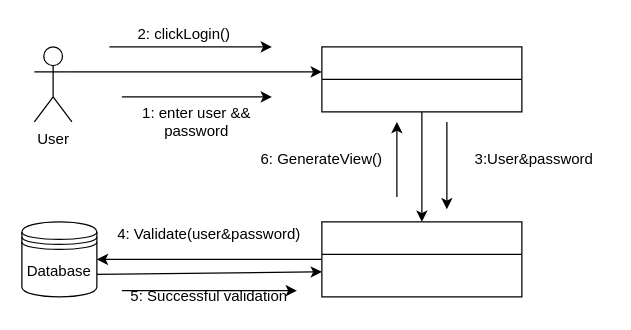
Image size: 631x330. Some labels were removed from this diagram. Each missing label, with the centre of its shape:
Controller: (x=421, y=259)
LoginView: (x=421, y=79)
